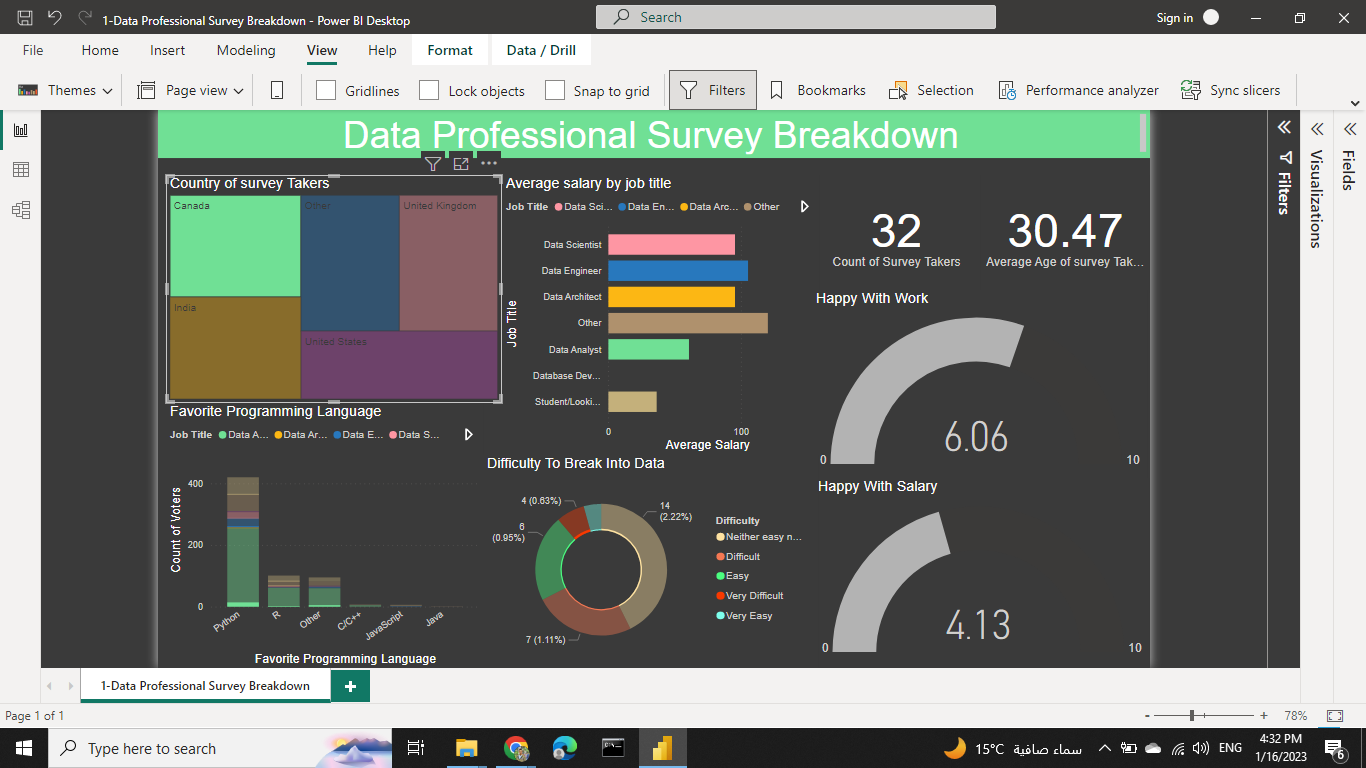

Layout of this report page (visuals, bound fields, positions):
{"tool":"powerbi","page":{"name":"Page 1","canvas":[1280,720],"ordinal":0},"visuals":[{"type":"textbox","box":[0,0,1280,62.2],"z":0},{"type":"card","fields":{"Values":["Count(Data Professional Survey.Unique ID)"]},"box":[843.3,84,218.4,151.2],"z":1000},{"type":"card","fields":{"Values":["Avg(Data Professional Survey.Q10 - Current Age)"]},"box":[1061.6,84,218.4,151.2],"z":2000},{"type":"barChart","title":"Average salary by job title","fields":{"Category":["Data Professional Survey.Q1 - Which Title Best Fits your Current Role?.1"],"Y":["Avg(Data Professional Survey.Average Salary)"],"Series":["Data Professional Survey.Q1 - Which Title Best Fits your Current Role?.1"]},"box":[443.5,84,409.9,361.2],"z":3000},{"type":"columnChart","title":"Favorite Programming Language","fields":{"Category":["Data Professional Survey.Q5 - Favorite Programming Language.1"],"Y":["CountNonNull(Data Professional Survey.Unique ID)"],"Series":["Data Professional Survey.Q1 - Which Title Best Fits your Current Role?.1"]},"box":[10.1,378,409.9,342.7],"z":3001},{"type":"treemap","title":"Country of survey Takers","fields":{"Group":["Data Professional Survey.Q11 - Which Country do you live in?.1"],"Values":["Count(Data Professional Survey.Q11 - Which Country do you live in?.1)"]},"box":[10.1,84,433.4,294],"z":3002},{"type":"gauge","title":"Happy With Work","fields":{"Y":["Avg(Data Professional Survey.Q6 - How Happy are you in your Current Position with the following? (Work/Life Balance))"],"MinValue":["Min(Data Professional Survey.Q6 - How Happy are you in your Current Position with the following? (Work/Life Balance))1"],"MaxValue":["Max(Data Professional Survey.Q6 - How Happy are you in your Current Position with the following? (Work/Life Balance))2"]},"box":[843.3,231.8,433.4,243.6],"z":3003},{"type":"gauge","title":"Happy With Salary","fields":{"Y":["Avg(Data Professional Survey.Q6 - How Happy are you in your Current Position with the following? (Salary))"],"MinValue":["Min(Data Professional Survey.Q6 - How Happy are you in your Current Position with the following? (Salary))"],"MaxValue":["Max(Data Professional Survey.Q6 - How Happy are you in your Current Position with the following? (Salary))"]},"box":[846.6,475.4,433.4,245.2],"z":3004},{"type":"donutChart","title":"Difficulty To Break Into Data","fields":{"Y":["CountNonNull(Data Professional Survey.Q7 - How difficult was it for you to break into Data?)"],"Category":["Data Professional Survey.Q7 - How difficult was it for you to break into Data?"]},"box":[419.9,445.1,433.4,275.5],"z":3005}]}

Visuals, with their boxes on the page's 1280x720 design canvas (x1, y1, x2, y2). These are canvas units, not pixel positions in the 1366x768 screenshot, which may show the page scaled, cropped or inside an application window:
textbox: detection(0, 0, 1280, 62)
card - Count(Data Professional Survey.Unique ID): detection(843, 84, 1062, 235)
card - Avg(Data Professional Survey.Q10 - Current Age): detection(1062, 84, 1280, 235)
"Average salary by job title" barChart: detection(444, 84, 853, 445)
"Favorite Programming Language" columnChart: detection(10, 378, 420, 721)
"Country of survey Takers" treemap: detection(10, 84, 444, 378)
"Happy With Work" gauge: detection(843, 232, 1277, 475)
"Happy With Salary" gauge: detection(847, 475, 1280, 721)
"Difficulty To Break Into Data" donutChart: detection(420, 445, 853, 721)
